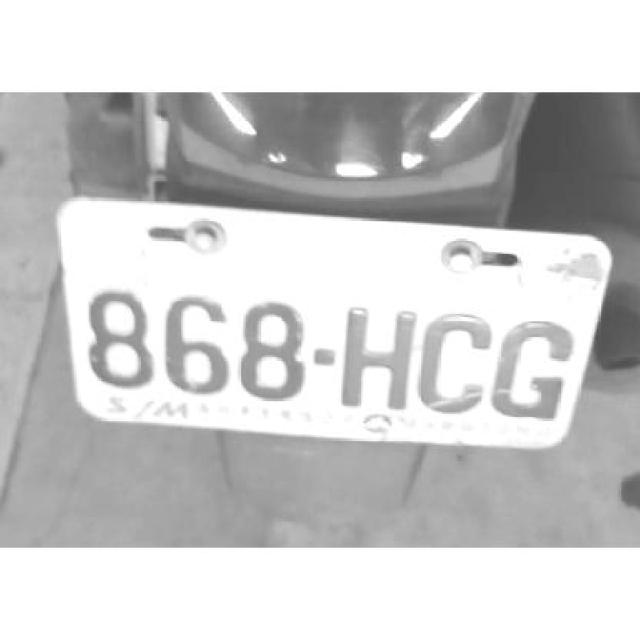-: (316, 346, 338, 368)
6: (158, 289, 234, 391)
8: (236, 297, 306, 401), (83, 285, 152, 389)
C: (418, 308, 491, 415)
G: (496, 314, 572, 420)
H: (341, 308, 417, 415)
